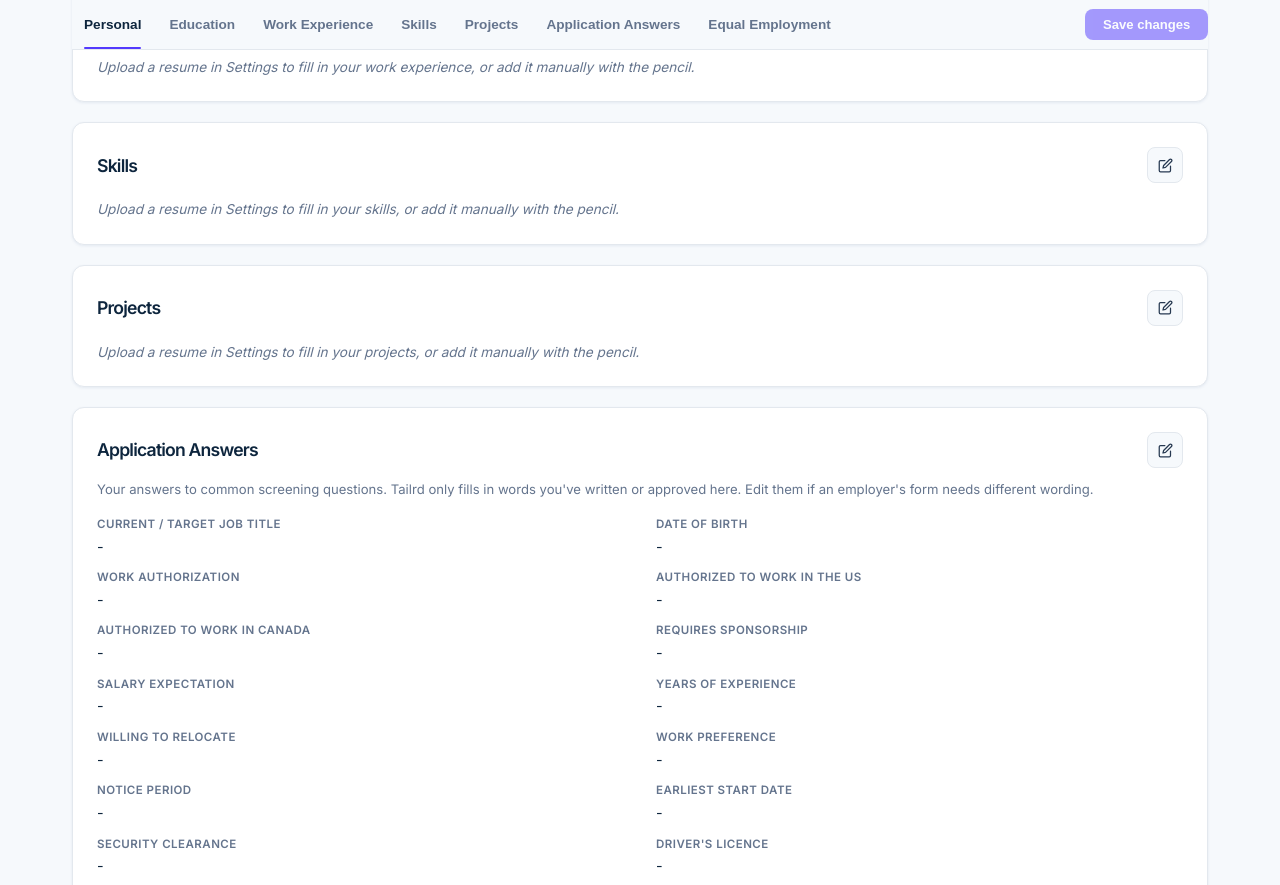
Profile: parity-contract fields › renders every Application Answers label from the contract
(page scrolled)
Step 1. Click the button named "Edit application answers" → (1165, 450), box [1147,432,1183,468]
(page scrolled)
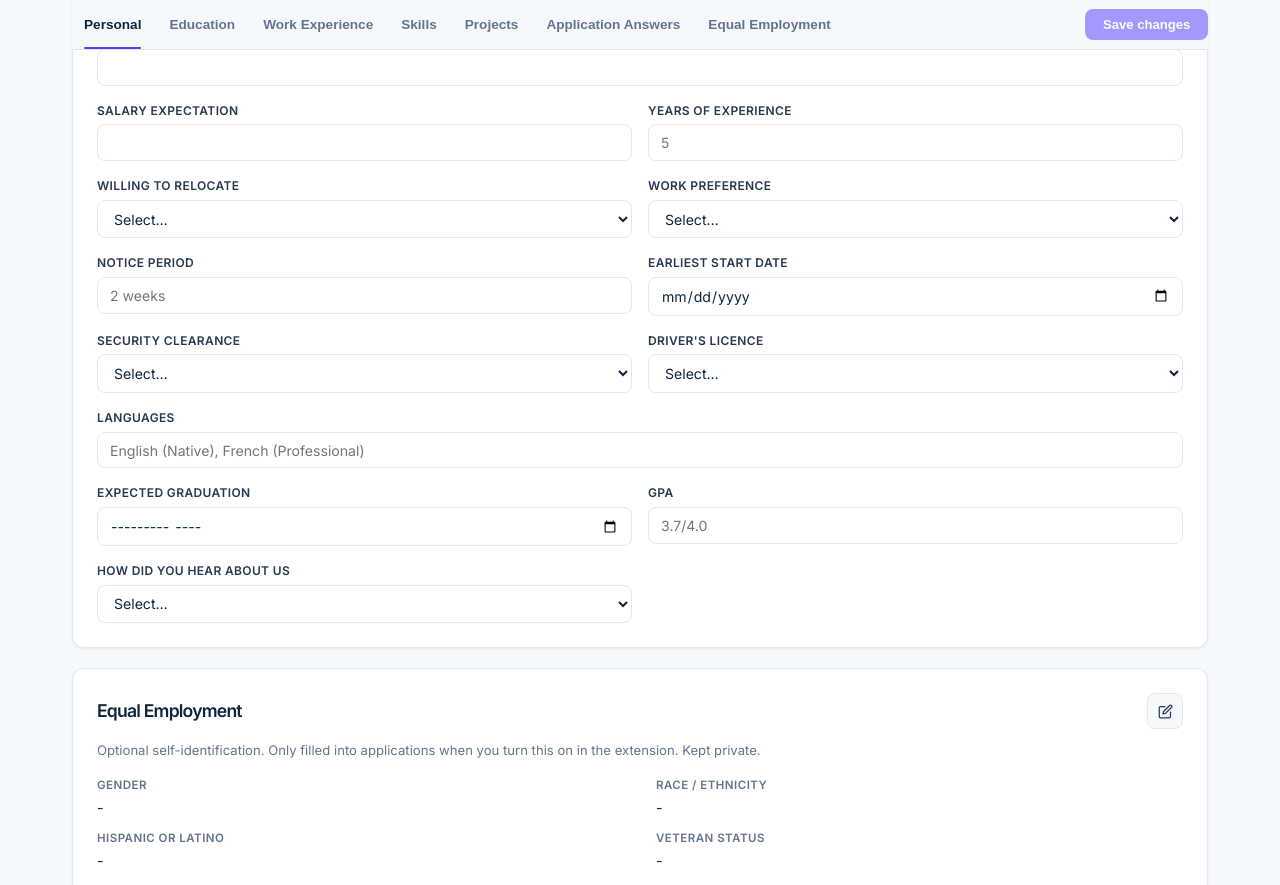
Expected: the field below "Requires Sponsorship" is shown, [97,49,1183,86]
Expected: the field below "Salary Expectation" is shown, [97,124,632,161]
Expected: the field with placeholder "5" is shown, [648,124,1183,161]
